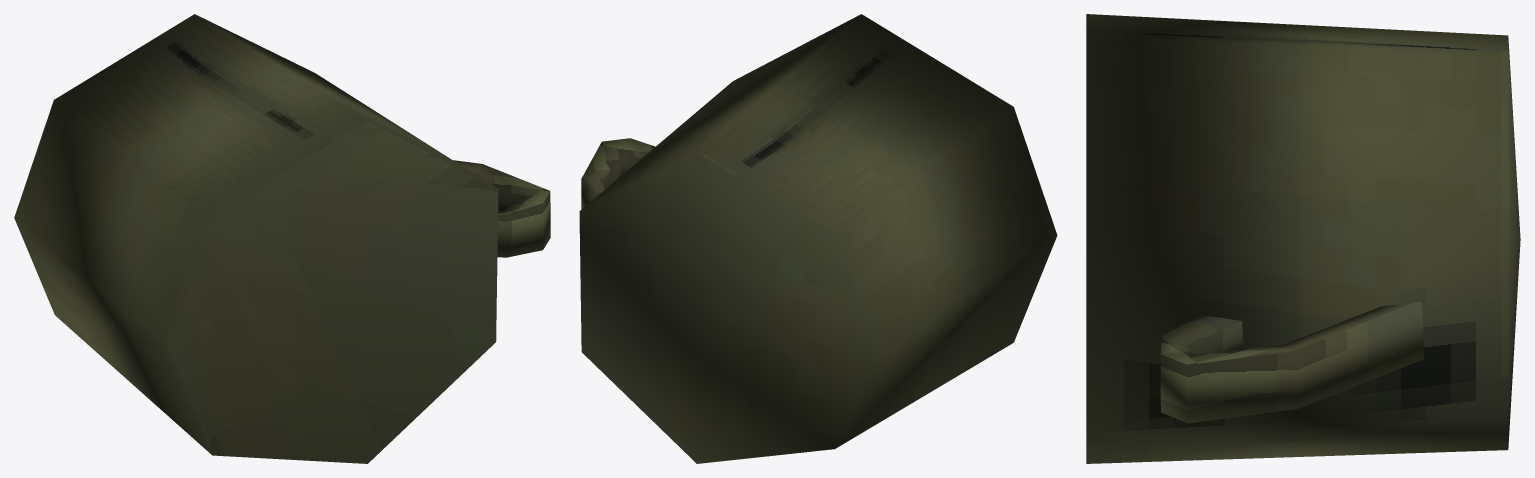
File: p_pent_coffeemug_LOD2.obj
3 views of the same model, side by side, from view 1: azimuth 30°, elevation 25°; view 2: azimuth 150°, elevation 25°; view 3: azimuth 270°, elevation 25° (orthographic). The views are drawn at different scales.
Parts seen in each view (by area): view 1: mtl_p_pent_coffeemug; view 2: mtl_p_pent_coffeemug; view 3: mtl_p_pent_coffeemug.
Boxes of the visible parts, x1,y1,x2,y2 form: mtl_p_pent_coffeemug: [14, 14, 550, 463]; mtl_p_pent_coffeemug: [579, 14, 1057, 463]; mtl_p_pent_coffeemug: [1086, 14, 1520, 463].
Size of the model in its own units: 12.56 by 9.73 by 8.98.
